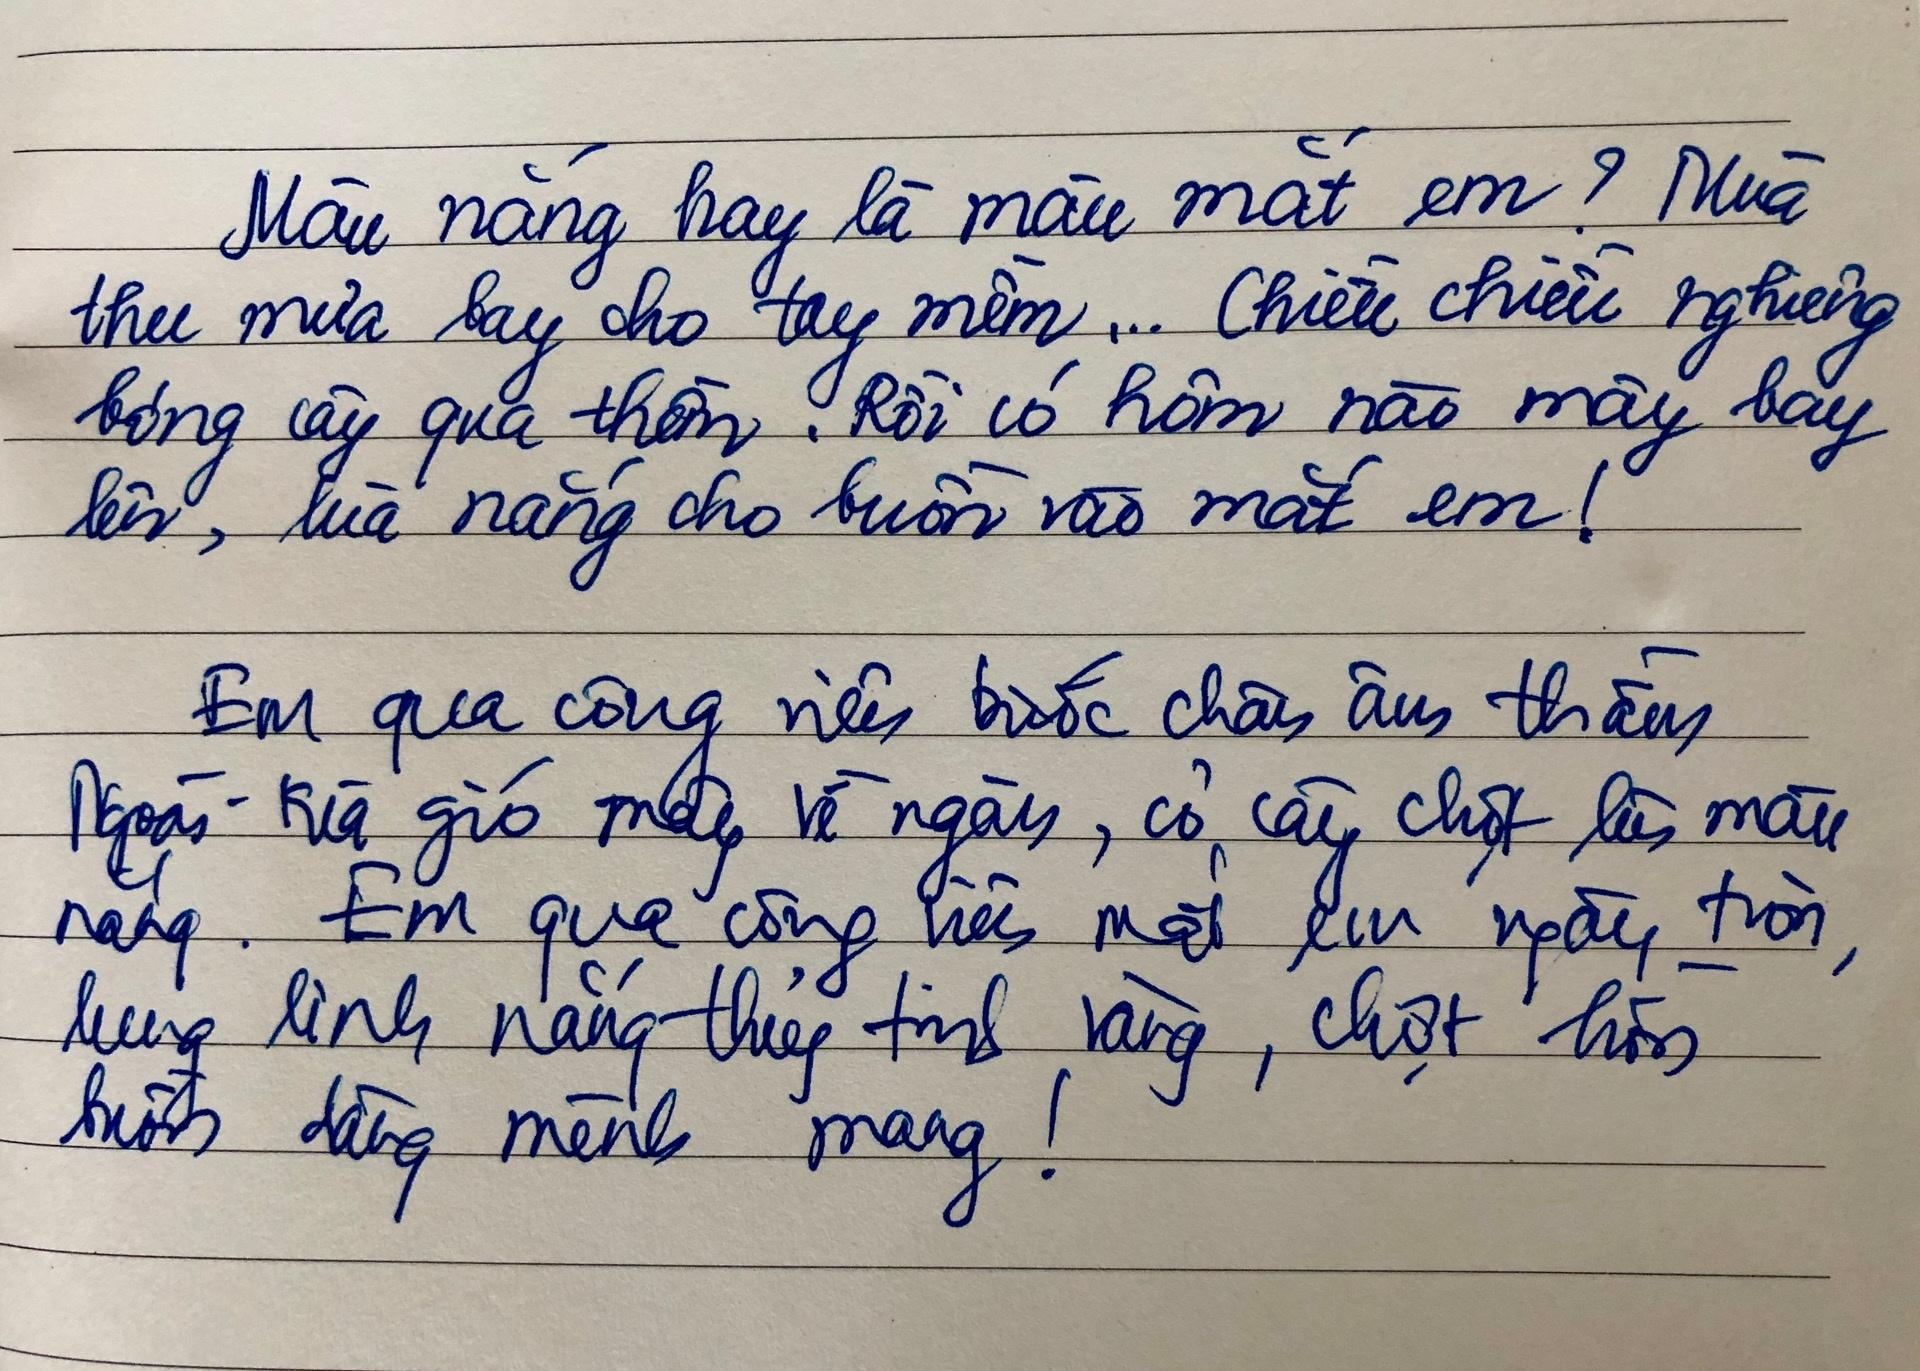text: (62, 236, 1904, 408), (214, 114, 1832, 295), (56, 746, 1858, 904), (70, 355, 1893, 507), (47, 858, 1868, 1006), (53, 959, 1743, 1116), (64, 448, 1617, 602), (180, 640, 1717, 769), (53, 1064, 1076, 1240)
